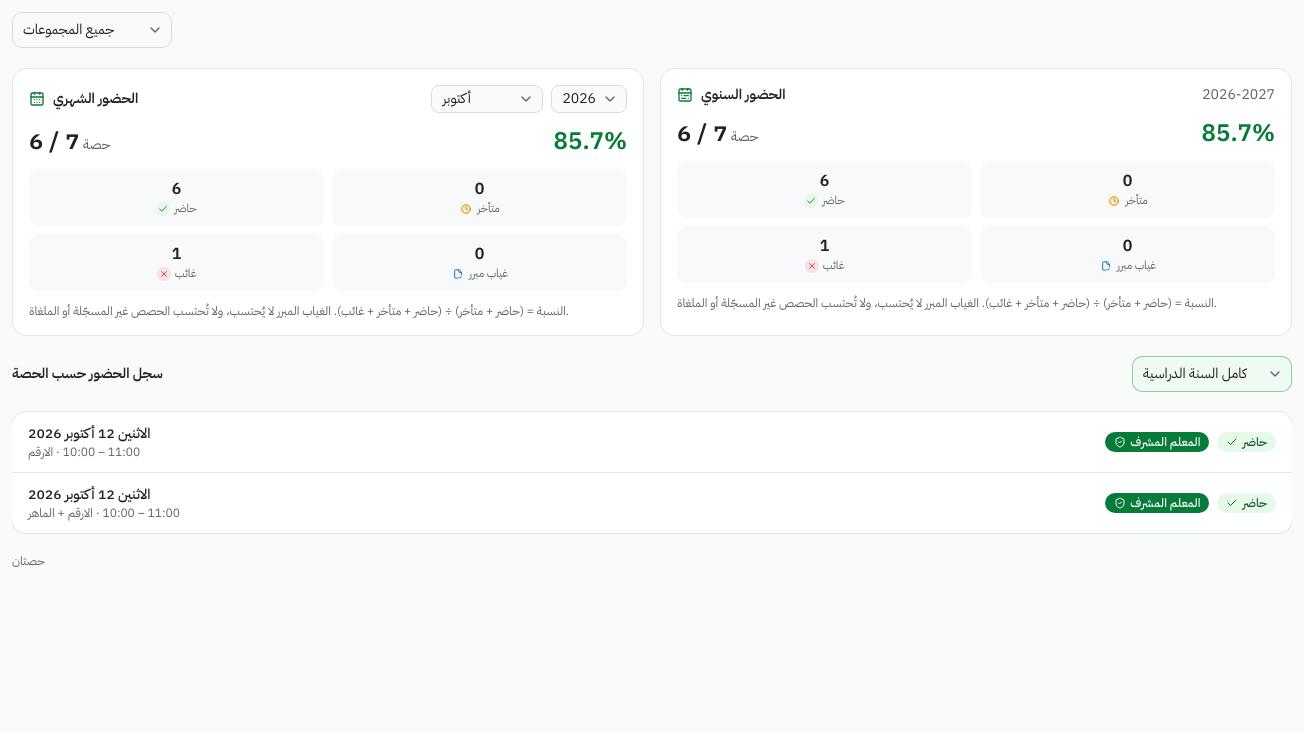
Test case: teacher profile — attendance by group › a group narrows the cards AND the history (the API filters before counting)
Click the dropdown named "المجموعة".
click(92, 30)  # box [12,12,172,48]
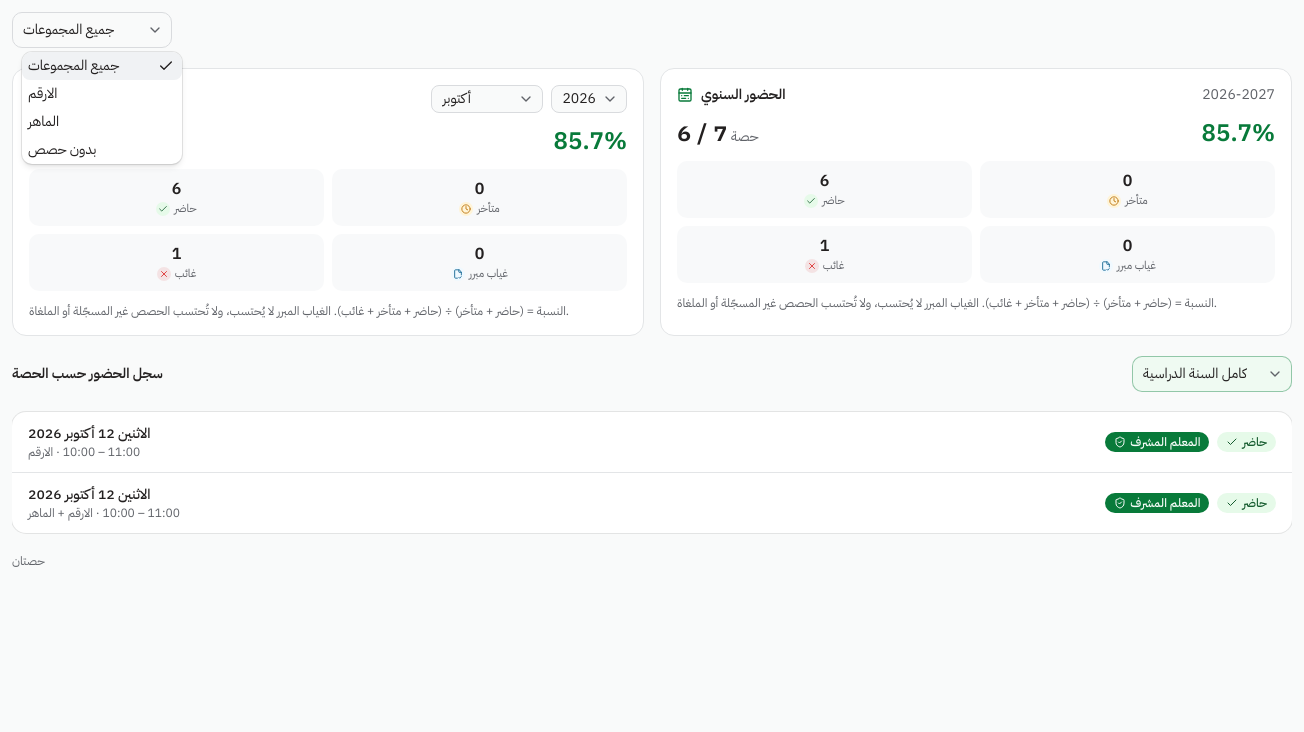
Click the option "الماهر".
click(44, 122)  # box [28,111,59,132]
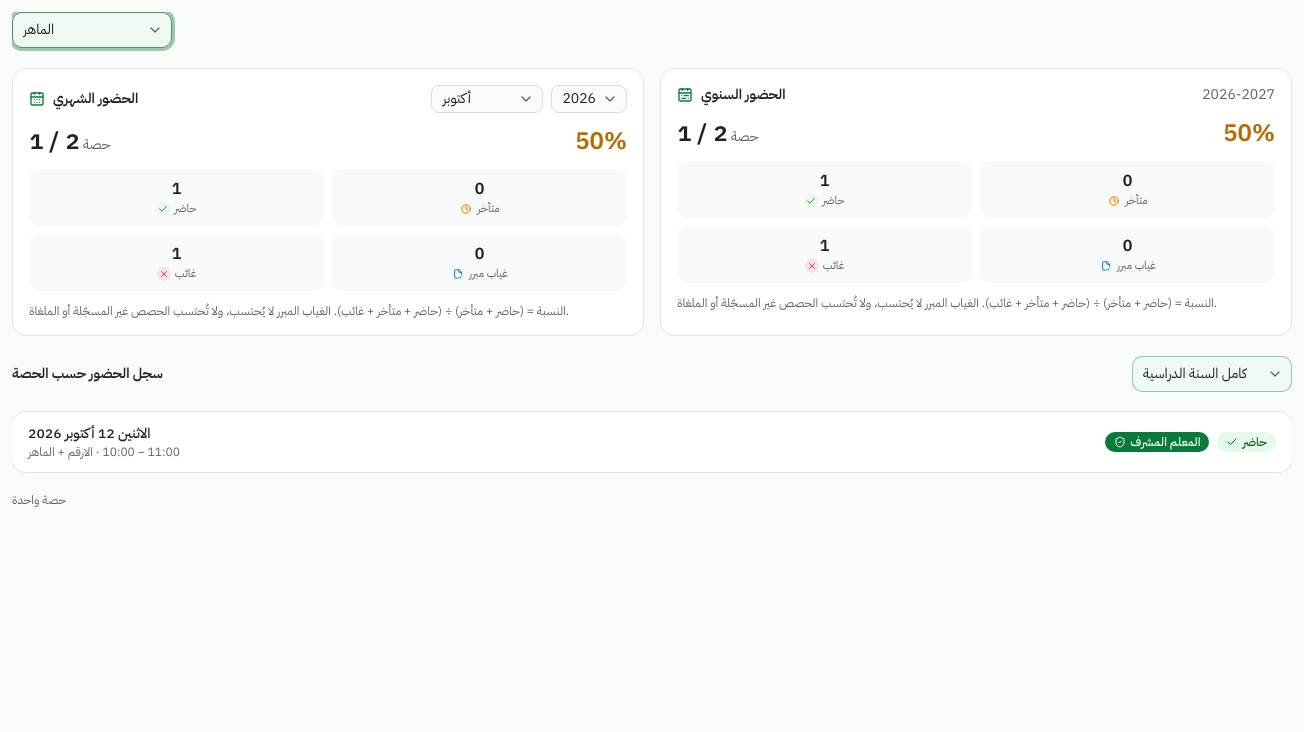
Expected: the text "الارقم + الماهر · 10:00 – 11:00" is shown, [28,444,180,460]
Result: the 1st text "50%" is shown at [575,125,627,157]
Click the dropdown named "المجموعة".
click(92, 30)  # box [12,12,172,48]
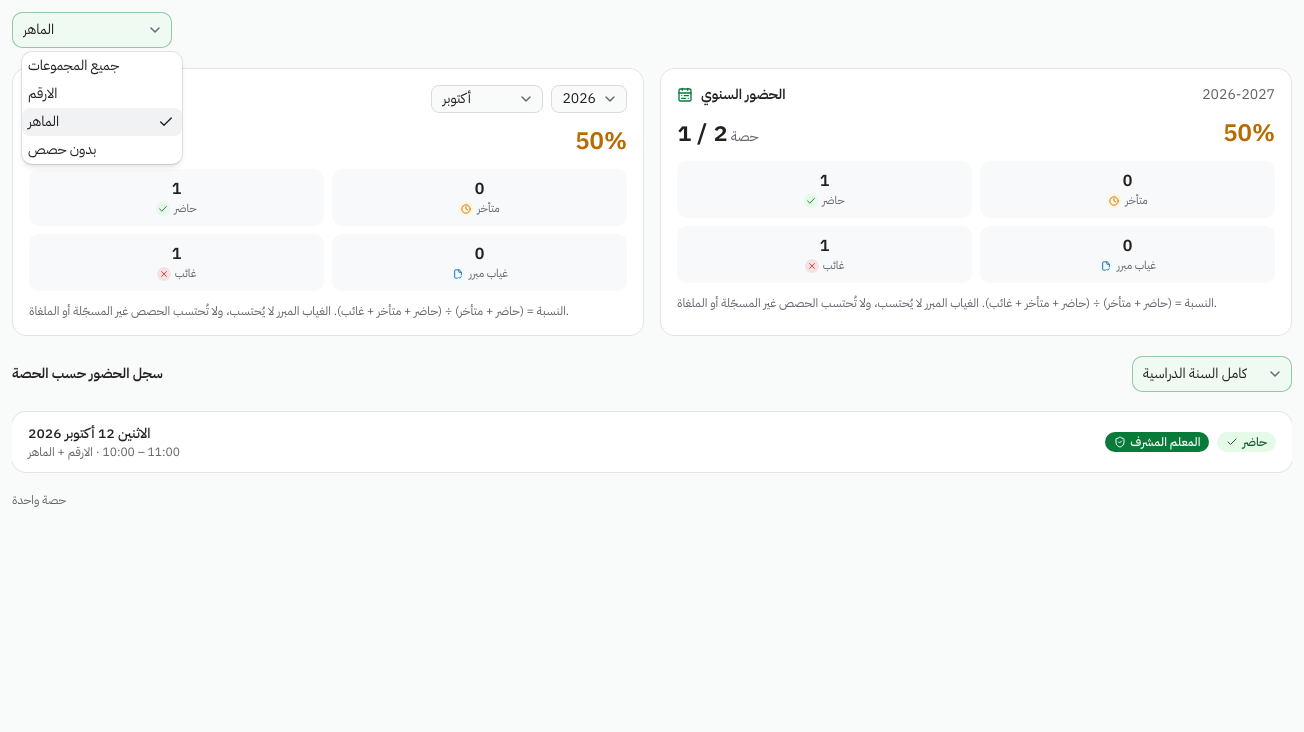
Click the option "الارقم".
click(43, 94)  # box [28,83,58,104]
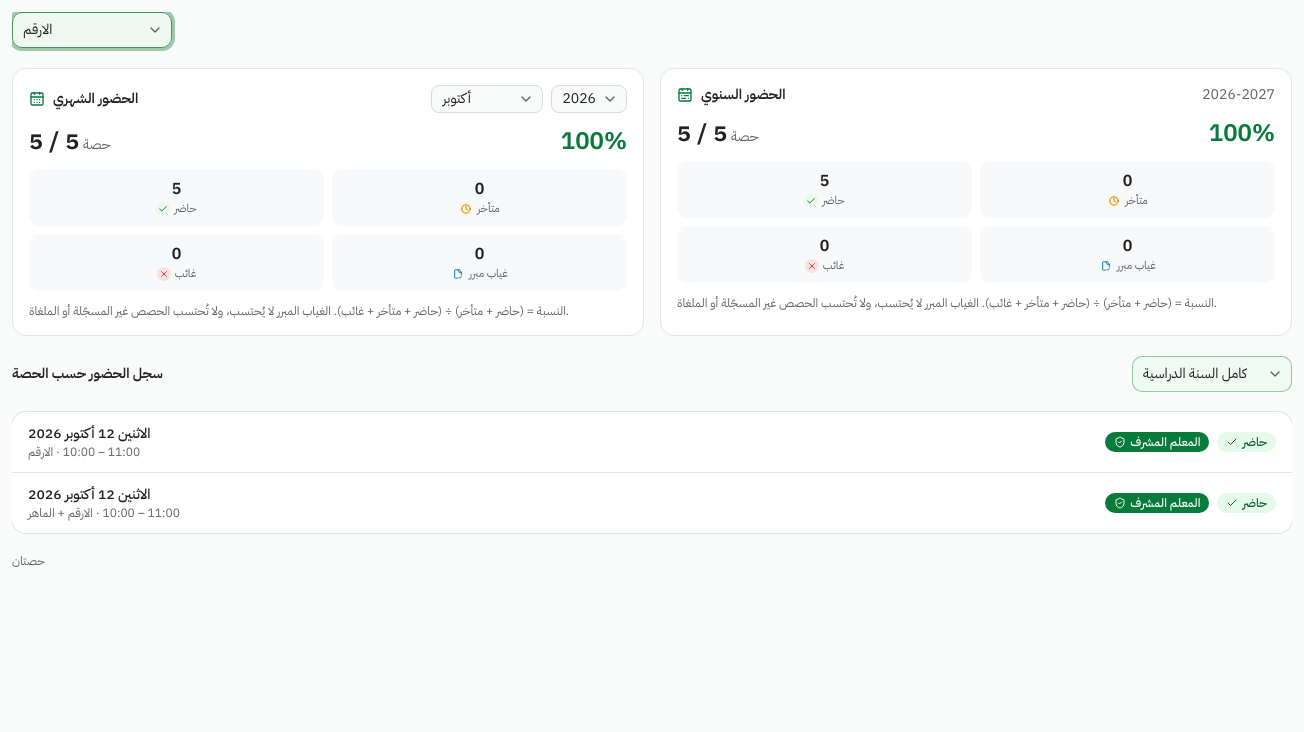
Result: the 1st text "100%" is shown at [561,125,627,157]
